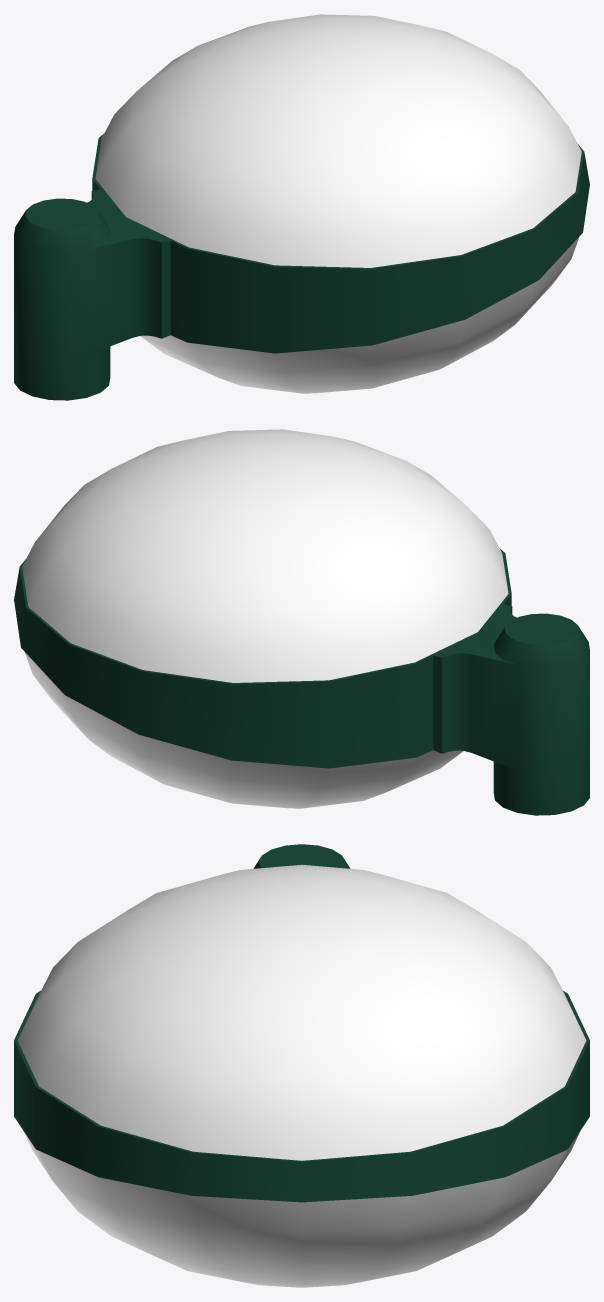
3 renders of one model, top to bottom at view 1: azimuth 30°, elevation 25°; view 2: azimuth 150°, elevation 25°; view 3: azimuth 270°, elevation 25°, orthographic. The views are drawn at different scales.
Parts seen in each view (by area): view 1: Glas oben, BezierCurve.001, Cylinder, Glas unten; view 2: Glas oben, BezierCurve.001, Cylinder, Glas unten; view 3: Glas oben, Glas unten, BezierCurve.001, Cylinder.
Boxes of the visible parts, left/top/right/bottom form: Glas oben: left=95, top=14, right=581, bottom=267; BezierCurve.001: left=92, top=134, right=589, bottom=353; Cylinder: left=14, top=189, right=170, bottom=400; Glas unten: left=140, top=237, right=579, bottom=393; Glas oben: left=22, top=429, right=508, bottom=682; BezierCurve.001: left=14, top=549, right=511, bottom=768; Cylinder: left=433, top=604, right=589, bottom=815; Glas unten: left=24, top=652, right=463, bottom=808; Glas oben: left=17, top=864, right=586, bottom=1160; Glas unten: left=24, top=1132, right=579, bottom=1287; BezierCurve.001: left=14, top=991, right=589, bottom=1202; Cylinder: left=253, top=844, right=350, bottom=868.
Size of the model in its own units: 0.5765 by 0.3154 by 0.4598.
Materials: 5 (4 with a texture image).
